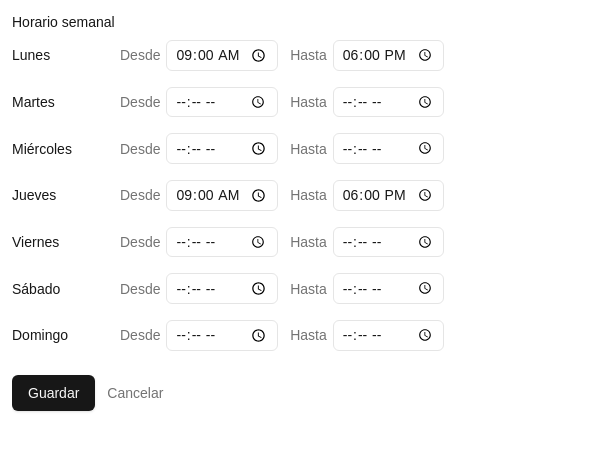
Test: WeeklyScheduleForm - rejection › should_mark_the_offending_day_and_leave_the_others_alone
The image size is (606, 455).
Step 1. Click the button "Guardar" → (54,393), box x1=12 y1=375 x2=95 y2=411
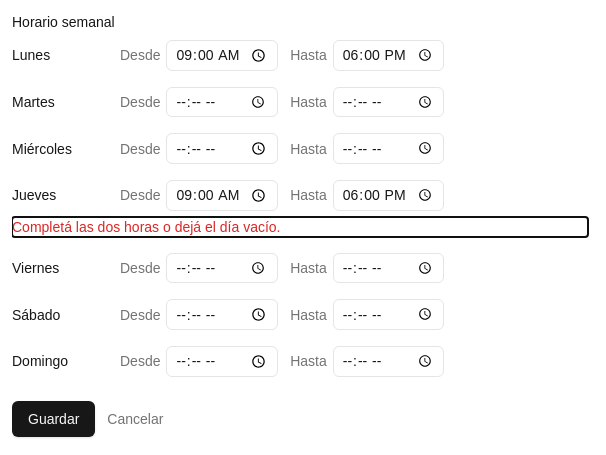
Expected: the message reads "Completá las dos horas o dejá el día vacío.", x1=12 y1=219 x2=280 y2=235
